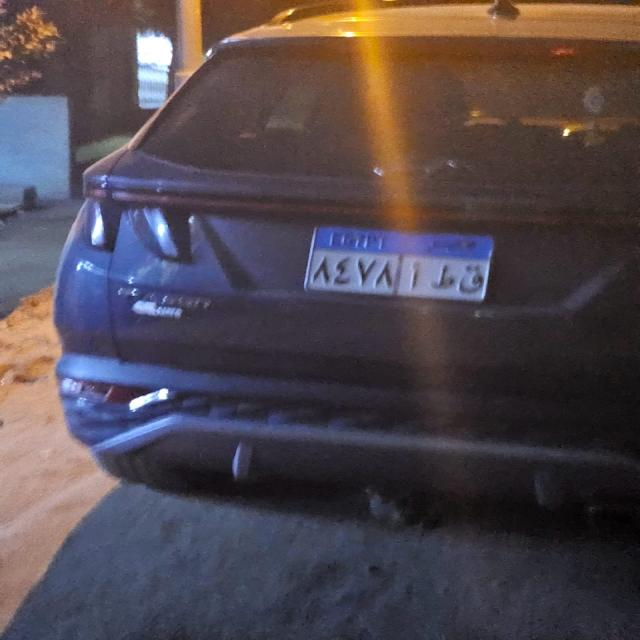car-plate: (304, 224, 493, 300)
